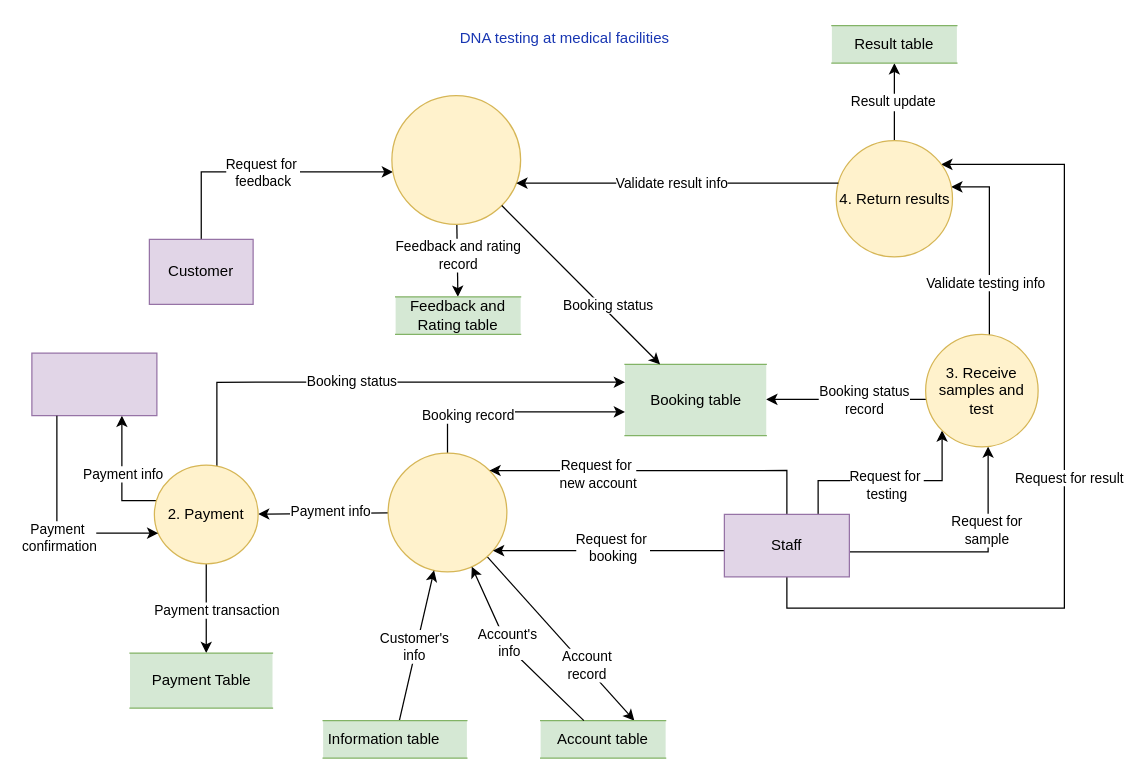
The diagram is 1145 pixels wide and 780 high, and some of its shapes have lost their labels. Here are the shapes that lost their labels. From the top down, the centre of each, then its label:
At point 456,159: "5. Feedback and rating".
At point 94,384: "Payment Gateway".
At point 447,512: "1. Place an ADN test booking".
